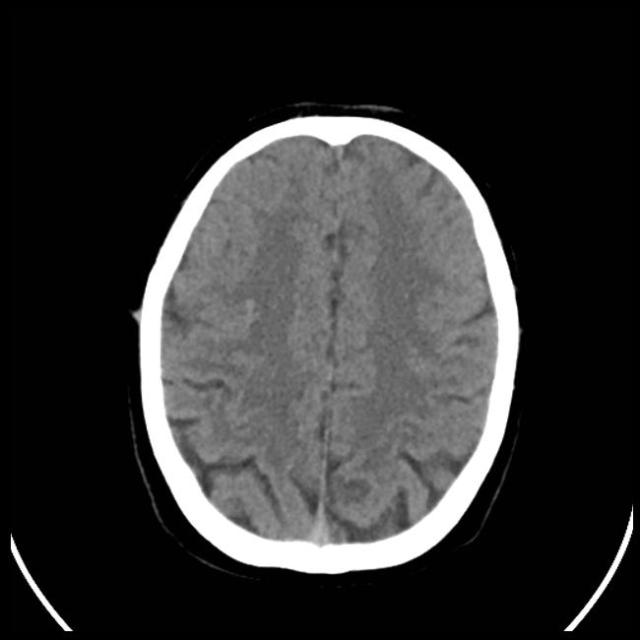lesion: (130, 108, 525, 572)
